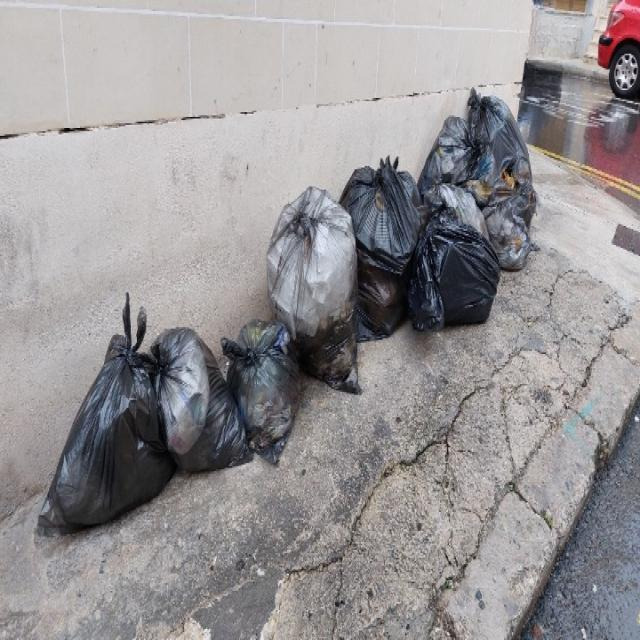Mixed Waste -Black Bag-: (44, 337, 167, 537), (269, 183, 362, 401), (417, 119, 531, 270), (153, 328, 254, 477), (350, 167, 416, 341), (232, 322, 301, 466), (414, 215, 497, 332), (467, 98, 534, 224)
